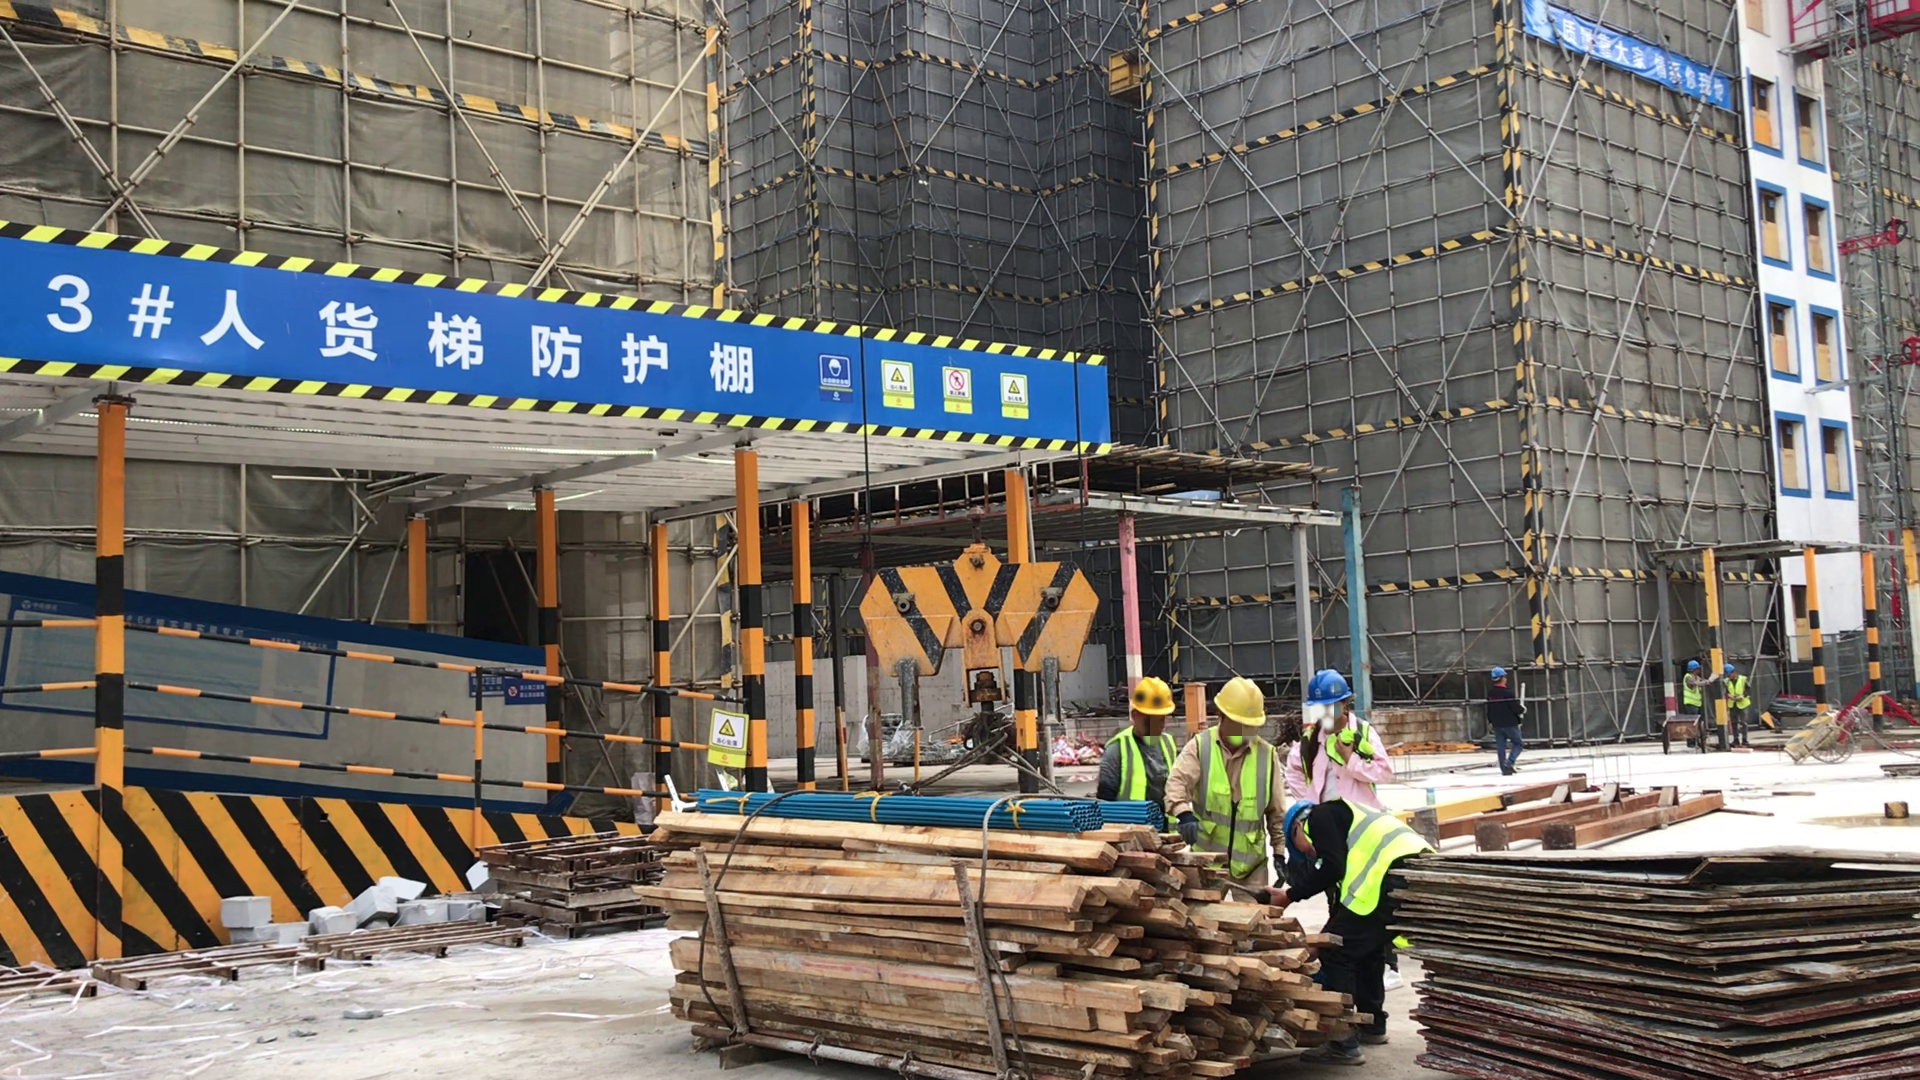helmet: (1210, 677, 1270, 729), (1125, 672, 1172, 715), (1282, 795, 1311, 848), (1305, 670, 1351, 703), (1490, 666, 1506, 680), (1686, 662, 1700, 672), (1723, 664, 1736, 675)
person: (1276, 801, 1436, 1046), (1169, 673, 1282, 889), (1277, 660, 1392, 821), (1092, 680, 1175, 819), (1474, 664, 1538, 779), (1719, 663, 1754, 750), (1678, 659, 1710, 718)
vest: (1329, 804, 1422, 908), (1203, 733, 1270, 865), (1111, 723, 1173, 806), (1682, 672, 1705, 709), (1723, 675, 1746, 708)
